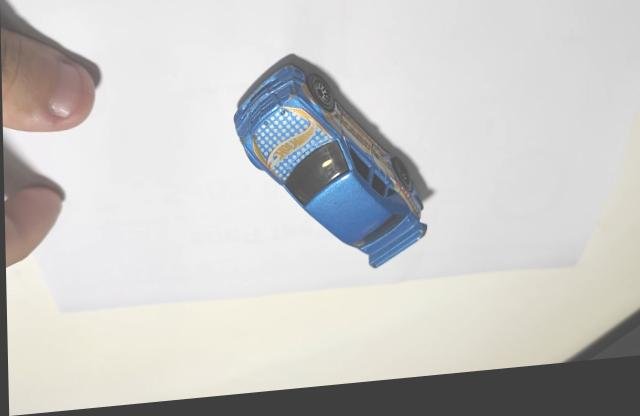04_MERZEDES: (231, 58, 434, 275)
